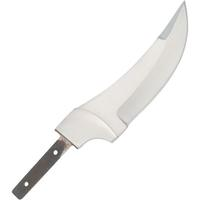knife: (12, 2, 189, 198)
